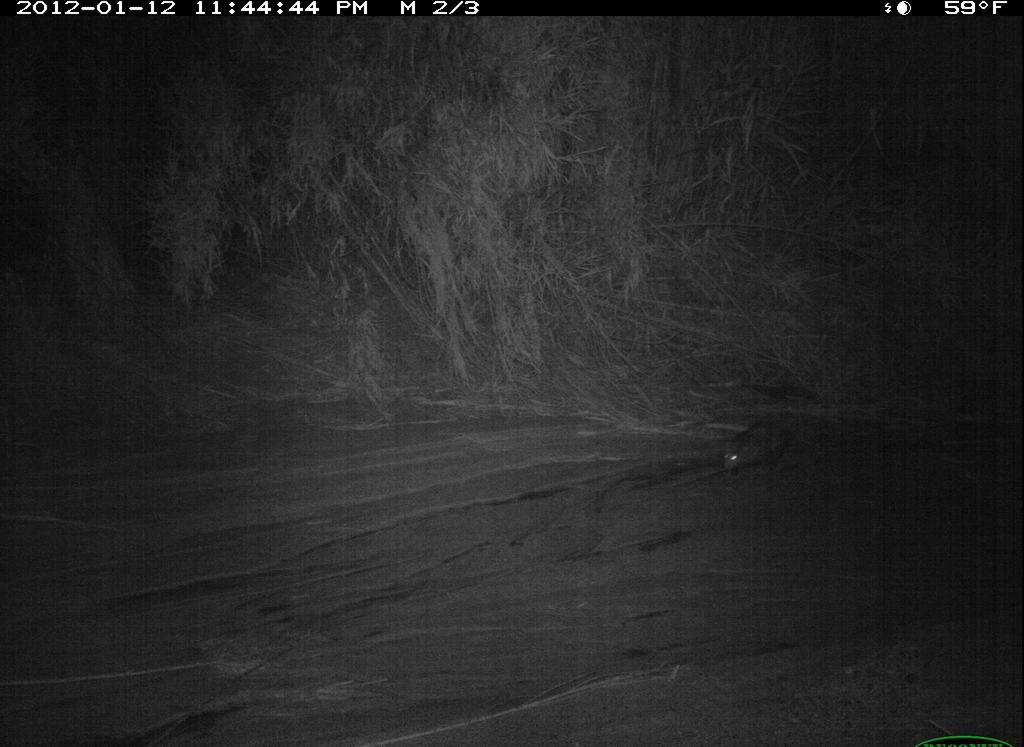opossum: (716, 406, 801, 488)
